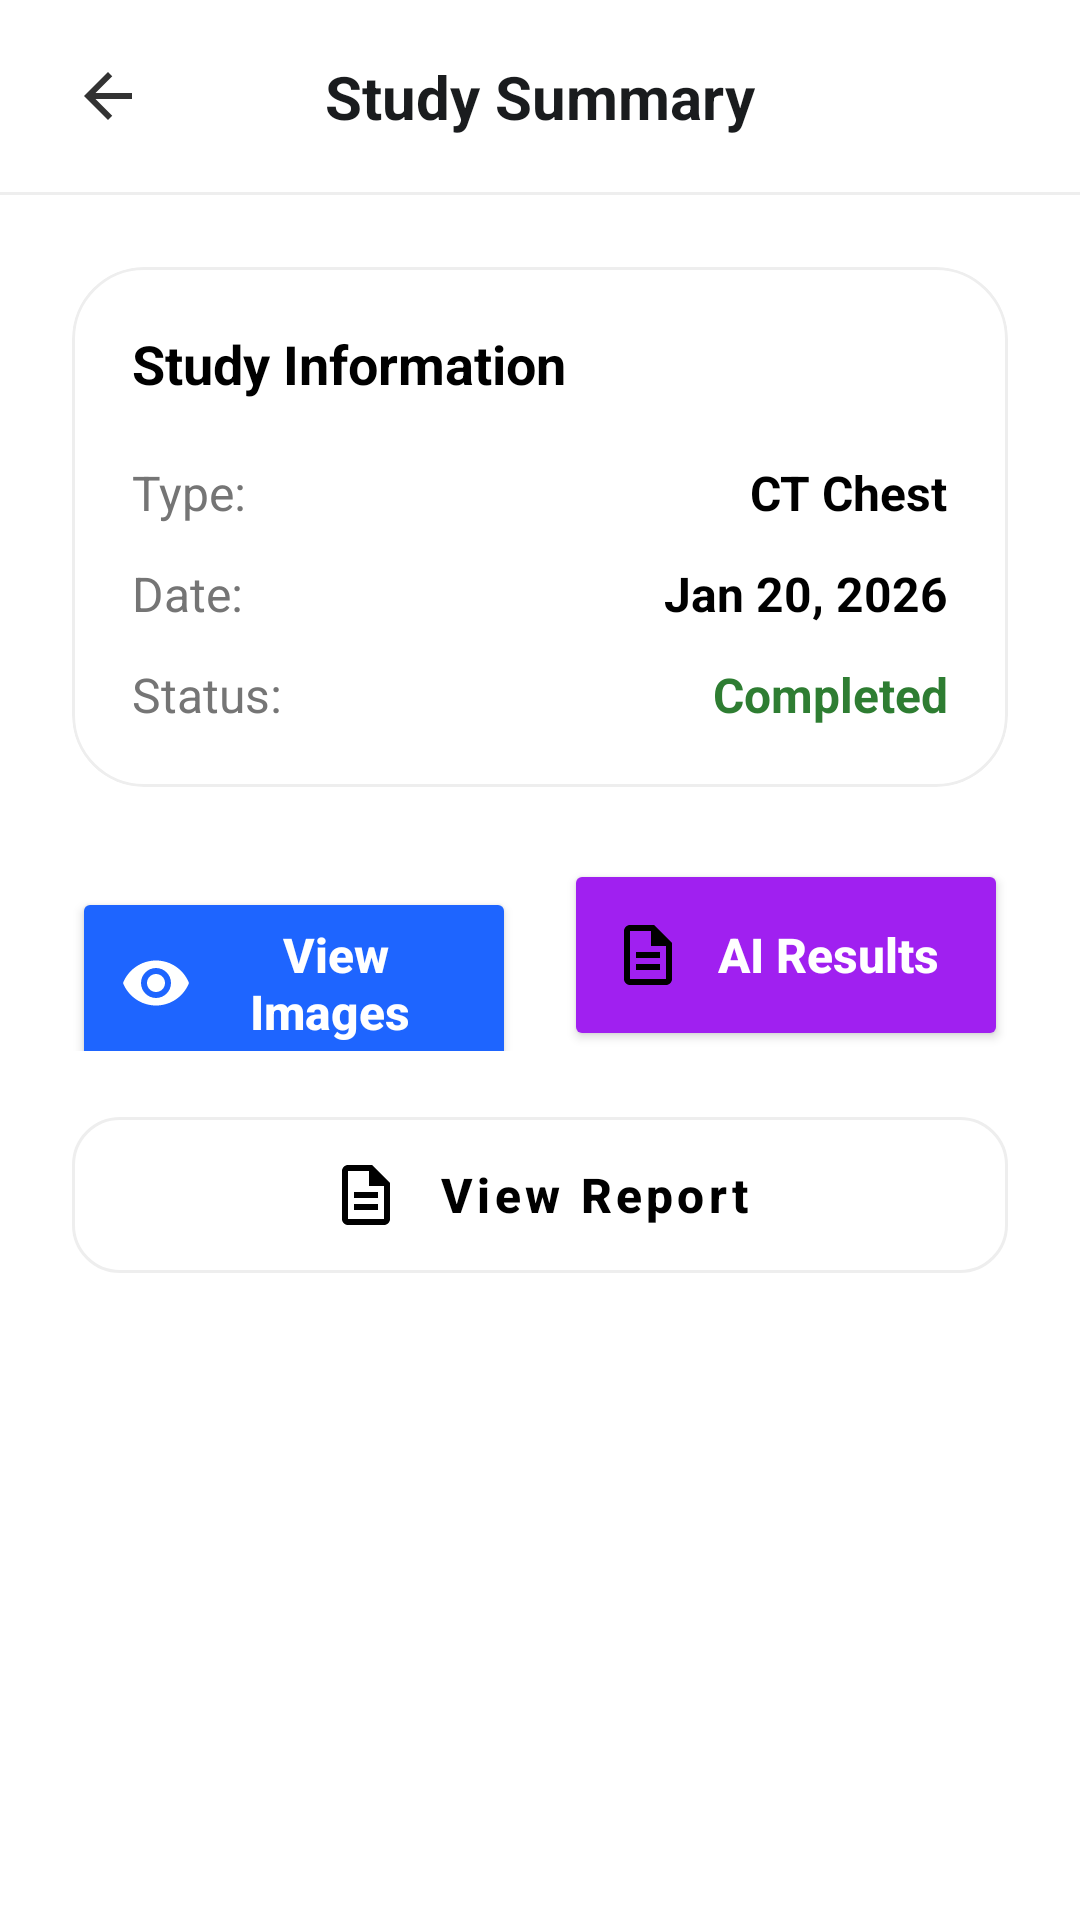

Icons on this 1080*1920 Android screen, each with its box as (x1, y1, x2, y2):
back: (84, 72, 132, 120)
